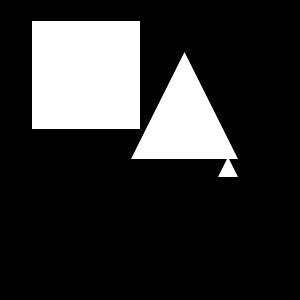circle: (32, 21, 140, 129)
triangle: (131, 52, 238, 159), (218, 157, 238, 177)
